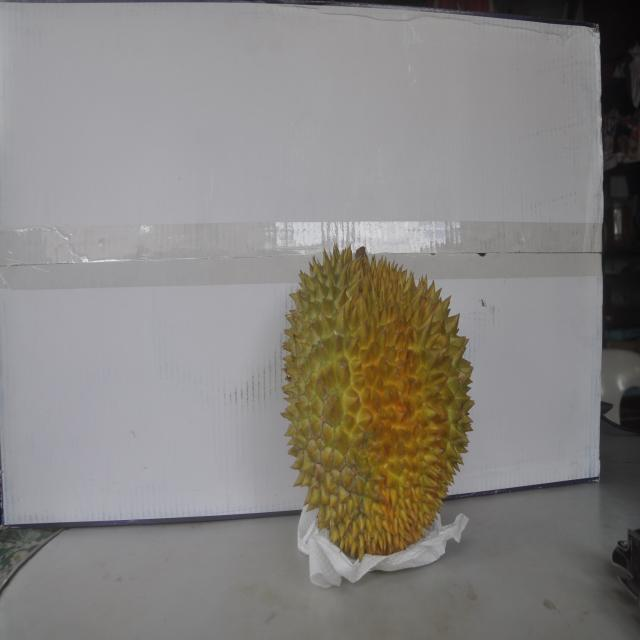mature: (284, 240, 470, 562)
